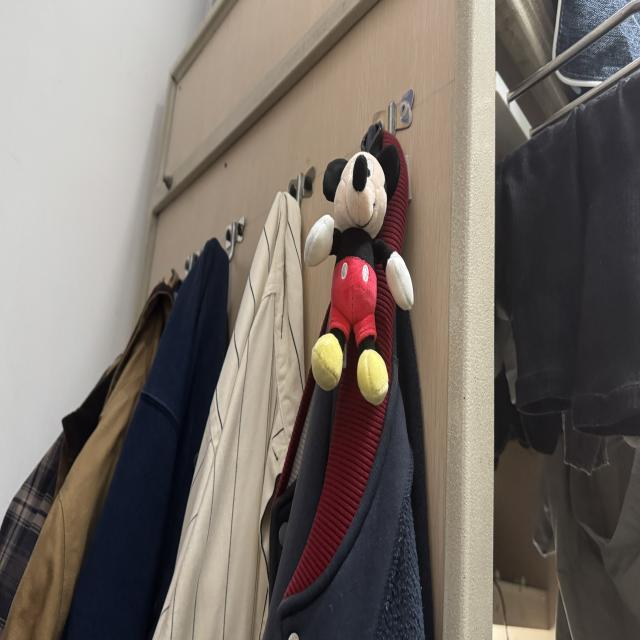mickey: (304, 125, 413, 404)
